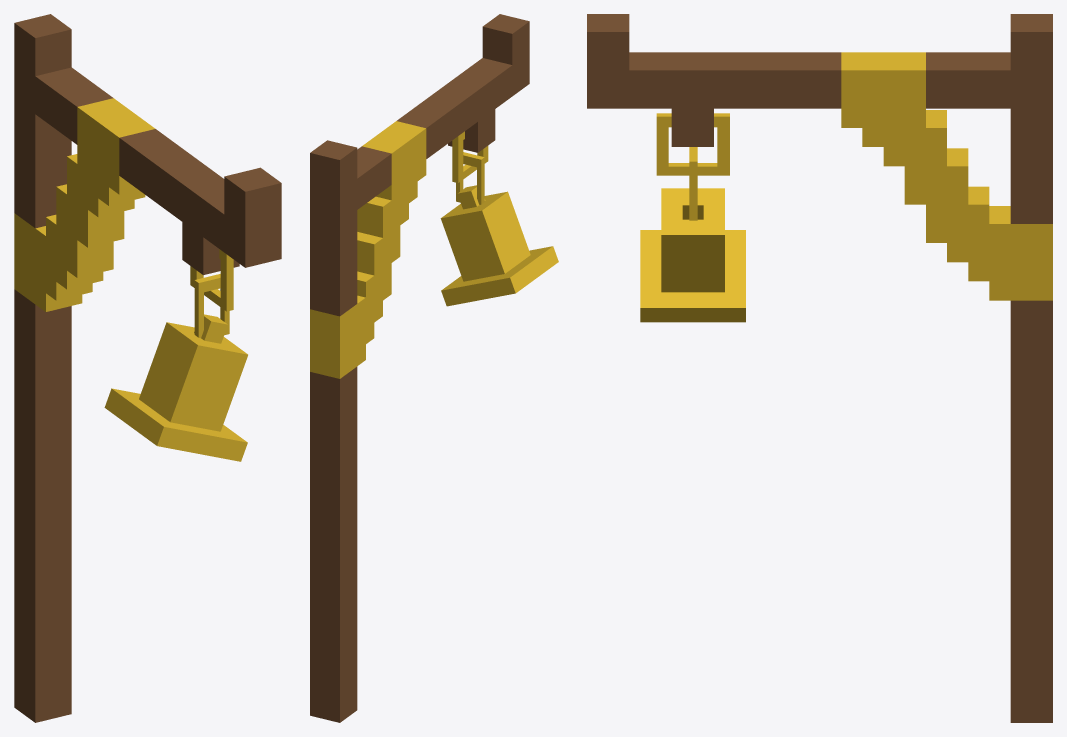
Rendered from campana frame1 fbx.fbx.
3 renders of one model, left to right at view 1: azimuth 30°, elevation 25°; view 2: azimuth 150°, elevation 25°; view 3: azimuth 270°, elevation 25°, orthographic. The views are drawn at different scales.
Visible parts, largest first — view 1: campana; view 2: campana; view 3: campana.
Boxes of the visible parts, bbox=[...] form: campana: bbox=[14, 14, 281, 722]; campana: bbox=[310, 14, 558, 722]; campana: bbox=[587, 14, 1052, 722].
Size of the model in its own units: 56.05 by 360 by 220.
